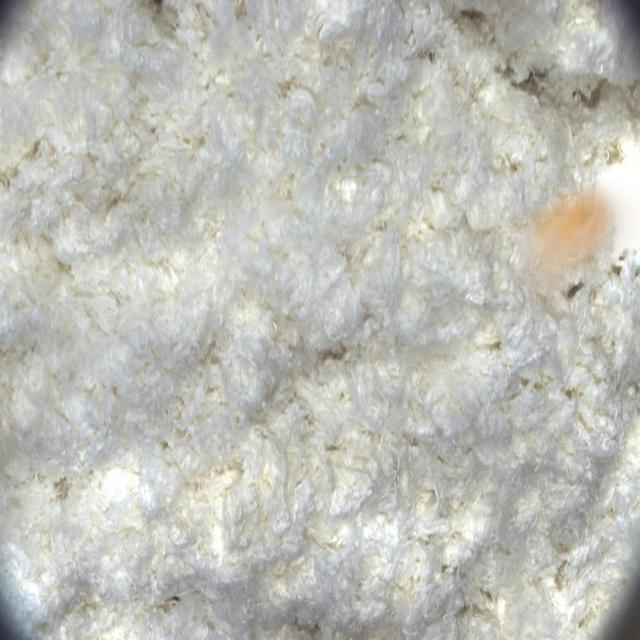dust: (505, 179, 640, 347)
